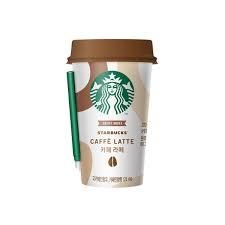starbucks_cafelatte: (61, 34, 162, 193)
